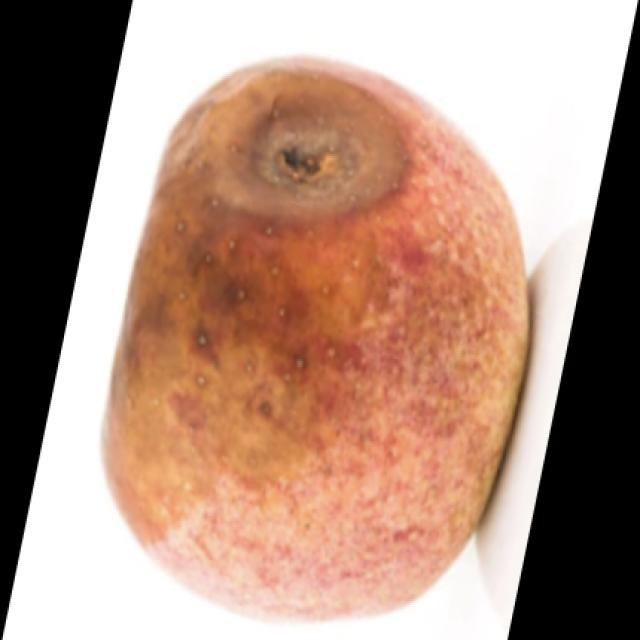Rotten: (137, 67, 533, 608)
